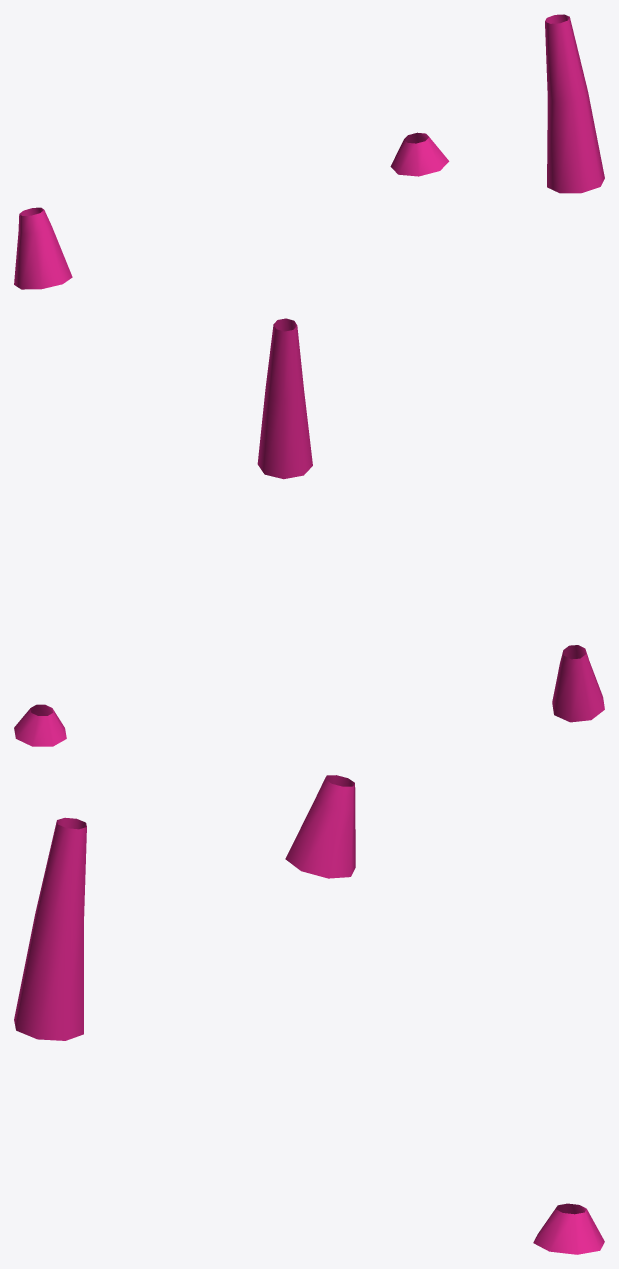
File: GNPlantgrowth_Tut04.fbx
3 renders of one model, top to bottom at view 1: azimuth 30°, elevation 25°; view 2: azimuth 150°, elevation 25°; view 3: azimuth 270°, elevation 25°, orthographic. The views are drawn at different scales.
Visible parts, largest first — view 1: 03PlantGrowth; view 2: 03PlantGrowth; view 3: 03PlantGrowth.
Part boxes in pixels (bbox=[...]): 03PlantGrowth: bbox=[14, 14, 604, 289]; 03PlantGrowth: bbox=[14, 318, 604, 746]; 03PlantGrowth: bbox=[14, 775, 604, 1254].
Size of the model in its own units: 40.92 by 23.1 by 31.98.
